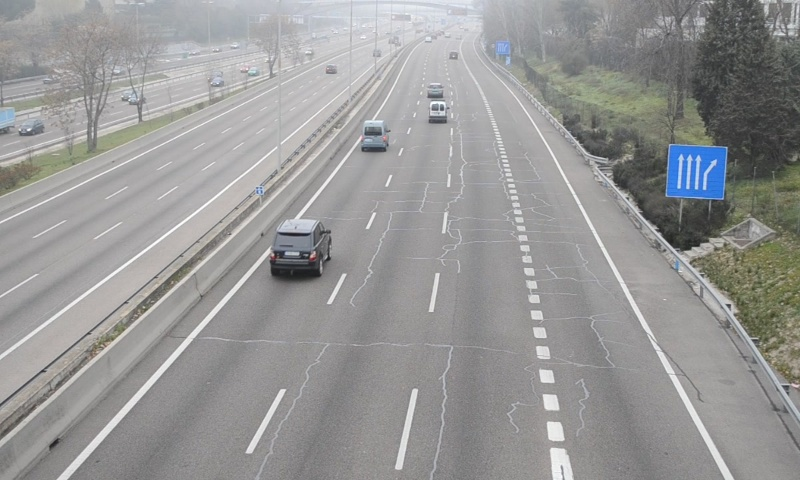car: (268, 220, 332, 272)
van: (361, 120, 387, 150), (428, 99, 448, 124)
